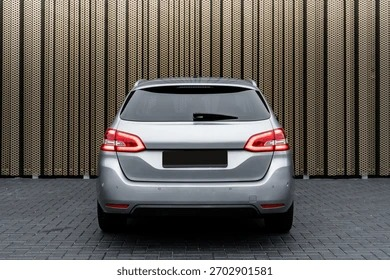car: (91, 77, 286, 233)
